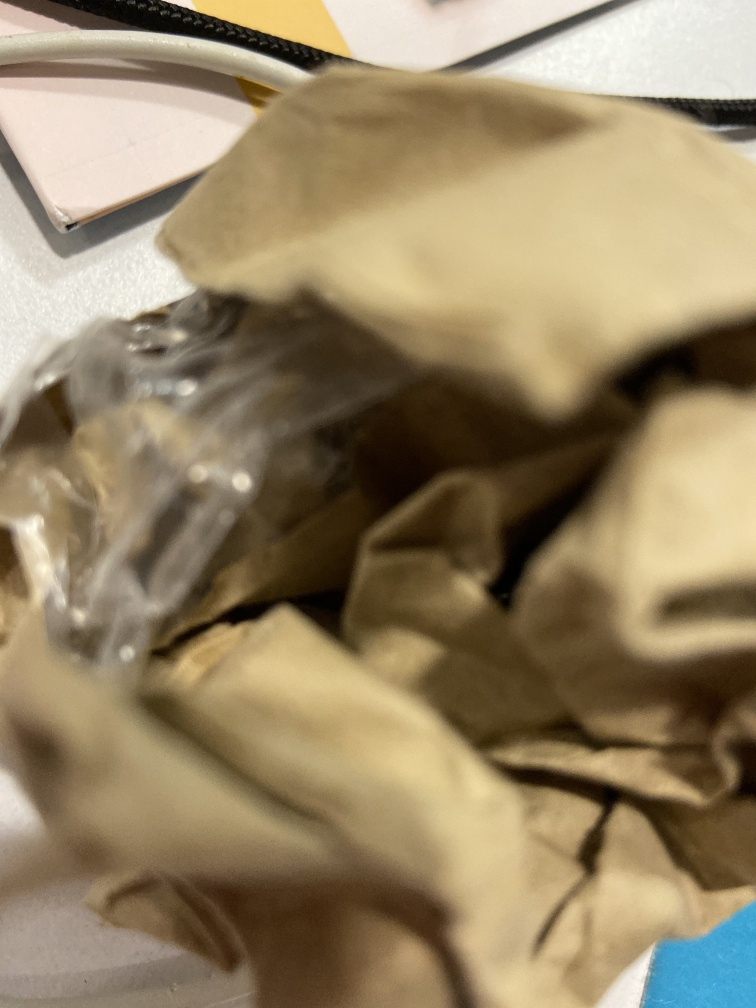paper_brown: (3, 59, 756, 1008)
